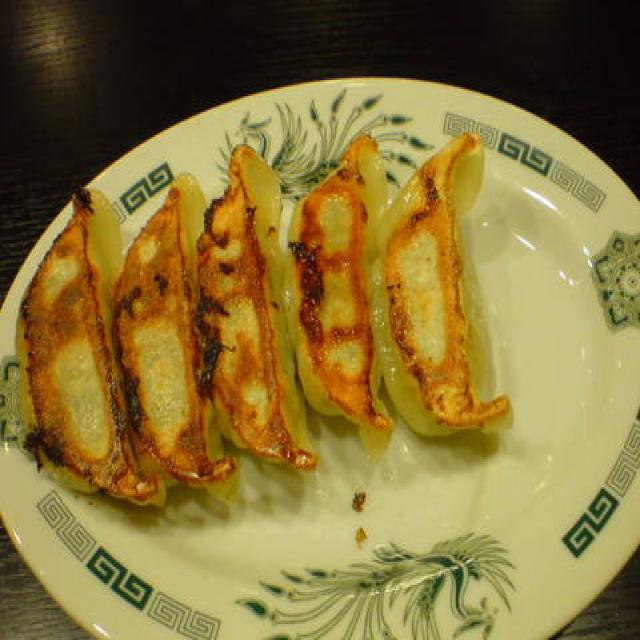带馅早点: (368, 112, 513, 432), (20, 181, 140, 507), (196, 146, 312, 474), (116, 162, 224, 476), (296, 139, 377, 448)
